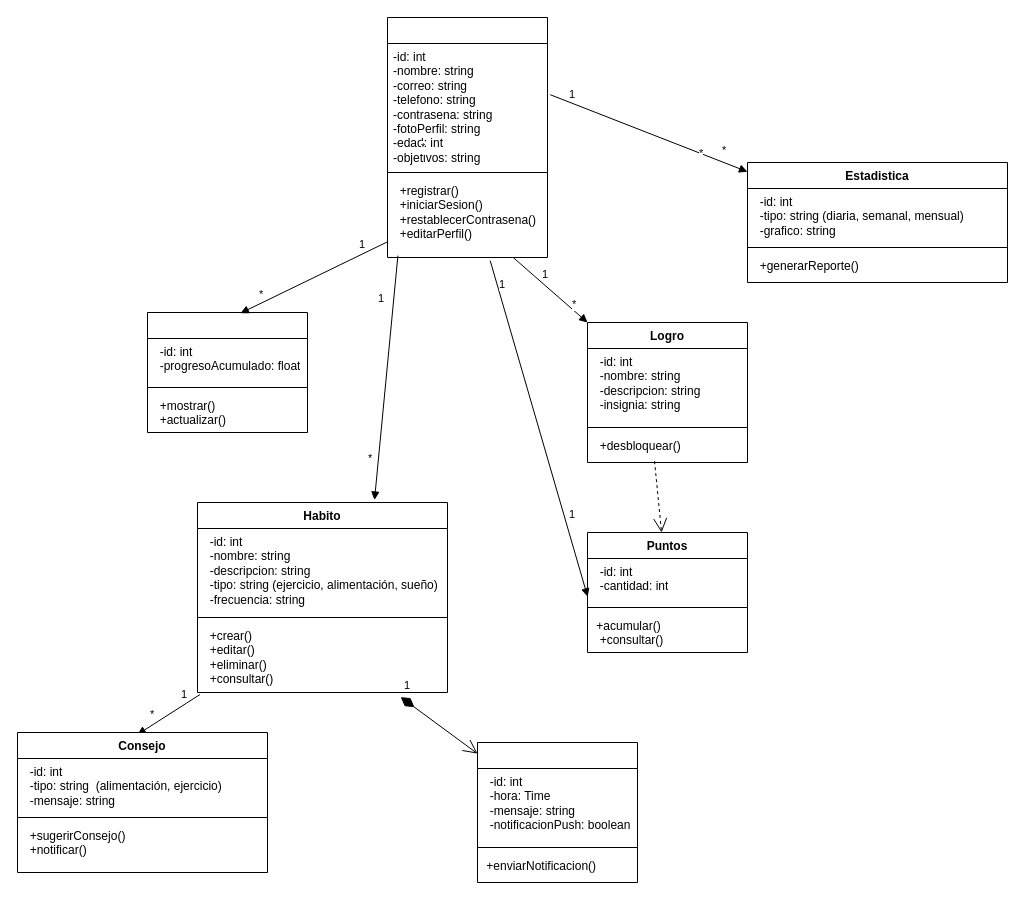
This 1025x903 diagram has some shape labels left out. The box of each missing label's shape, as (x1, y1, x2, y2) in pixels:
Recordatorio: (476, 742, 638, 882)
Tabla Progreso: (146, 312, 308, 432)
Usuario: (386, 16, 548, 258)
